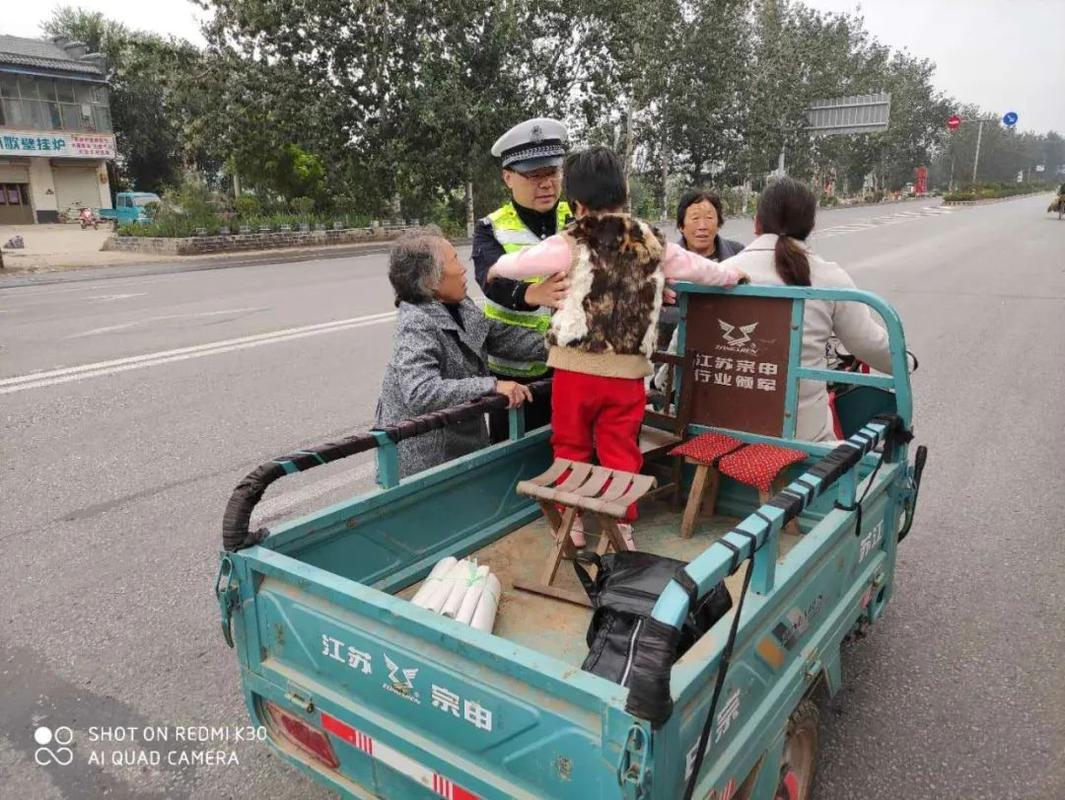driver: (729, 182, 859, 425)
overloading: (188, 130, 933, 800)
passenger: (545, 147, 654, 543)
